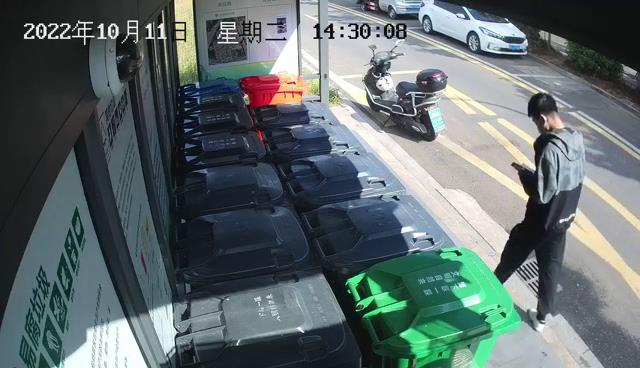person: (495, 93, 587, 335)
